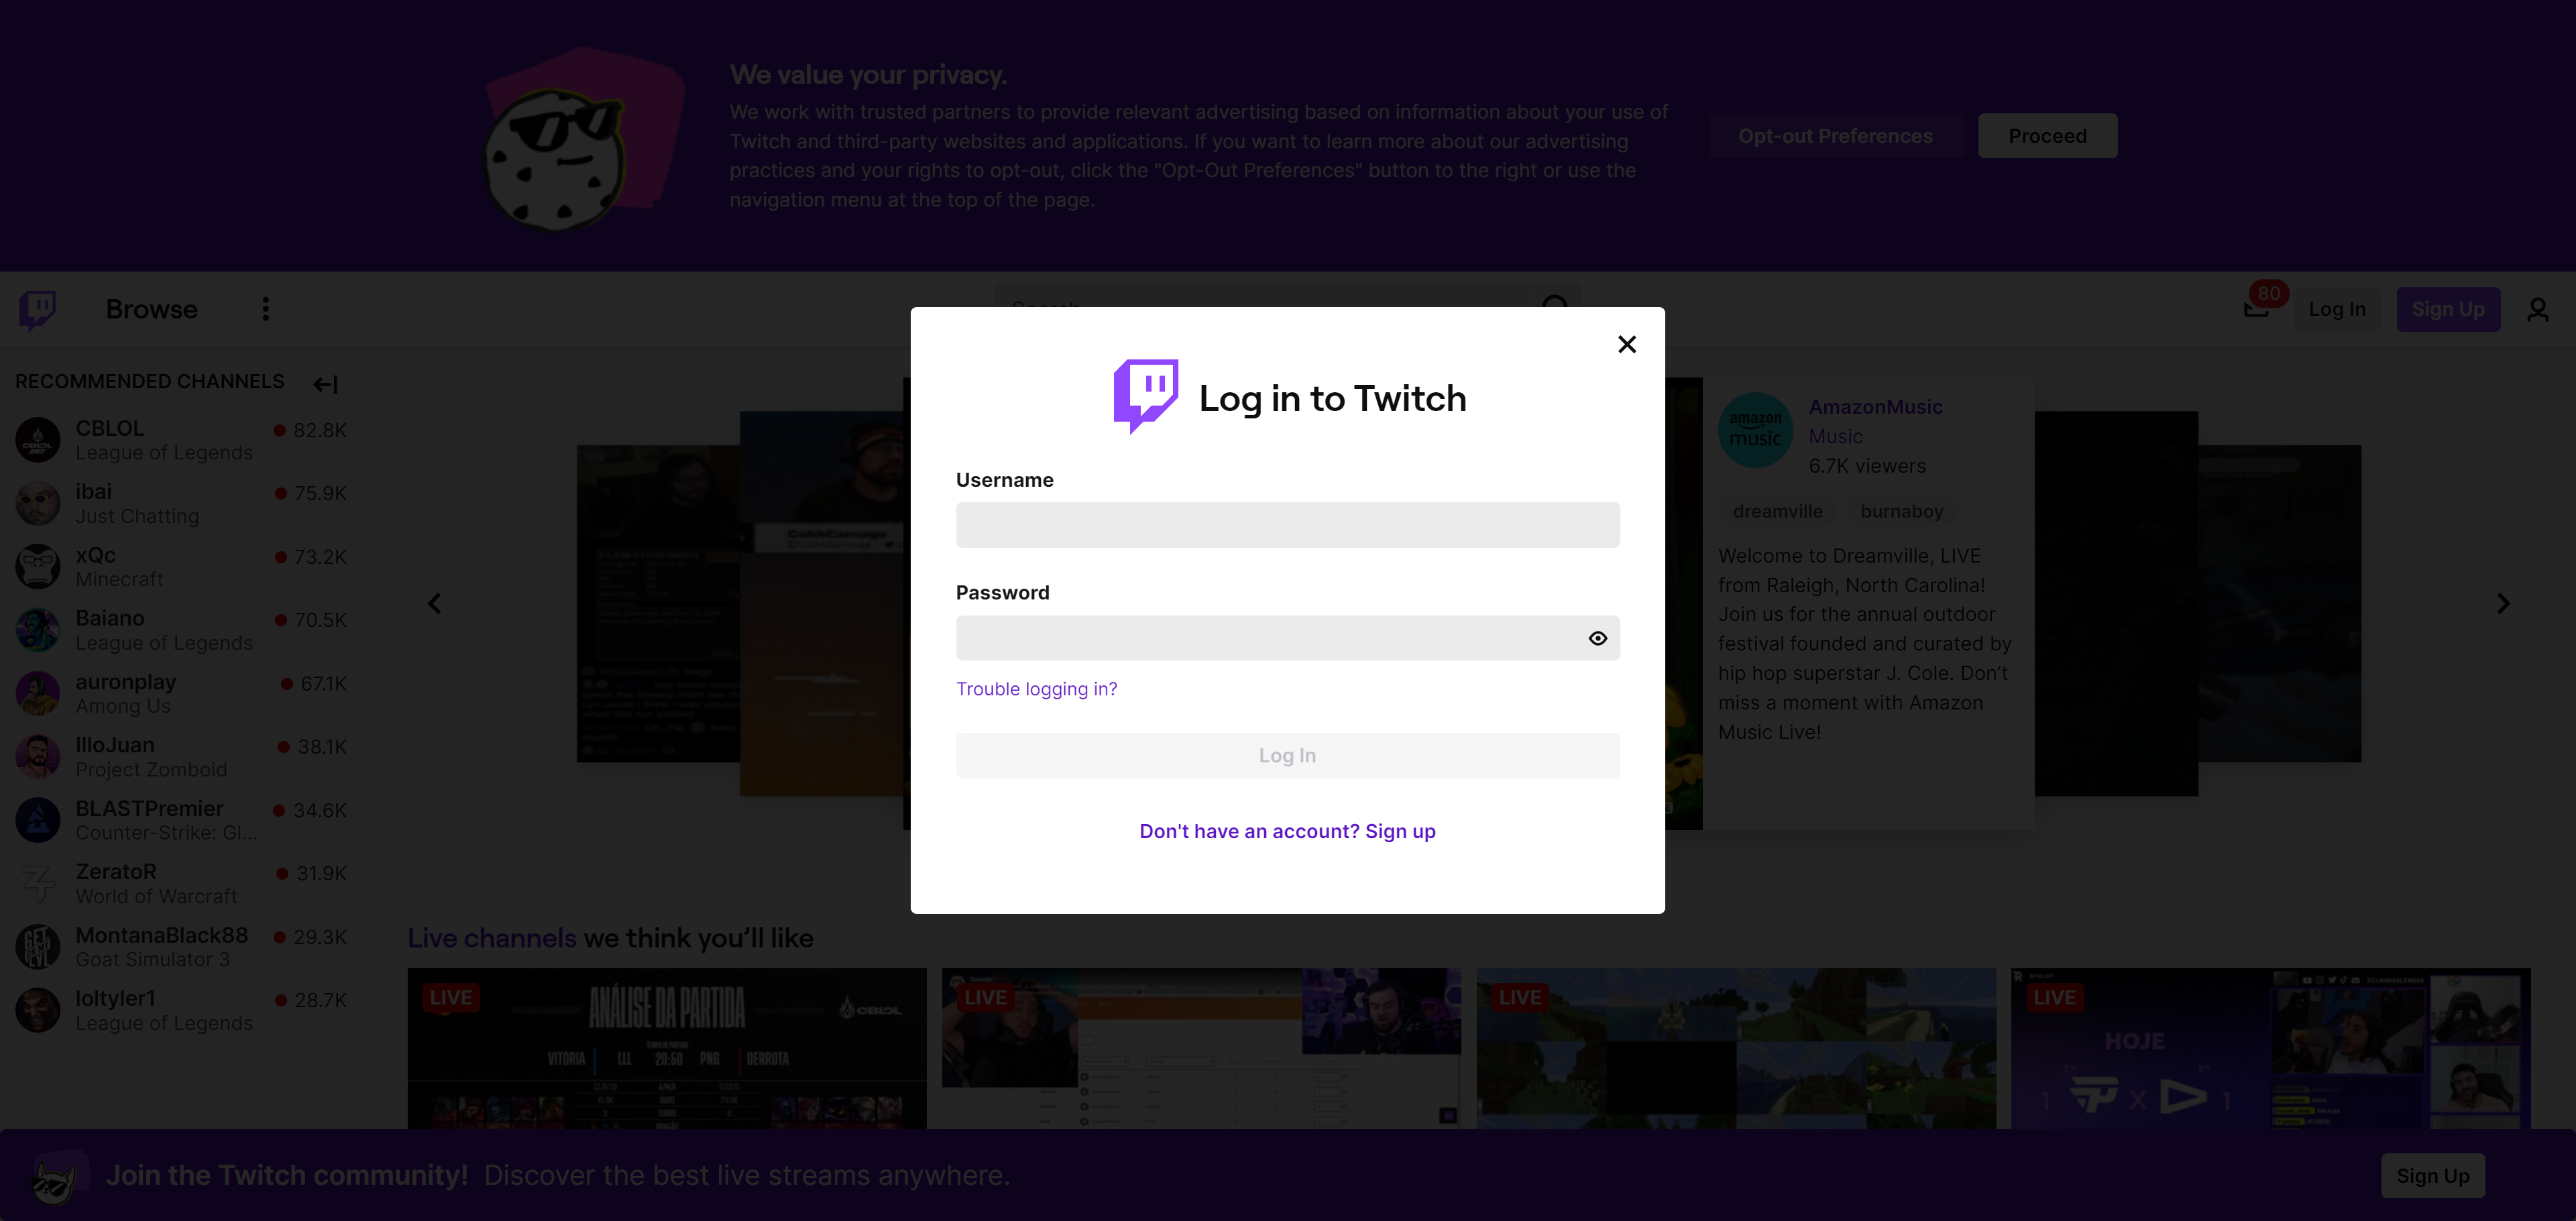login_button: (958, 733, 1618, 779)
login_form: (950, 467, 1625, 784)
